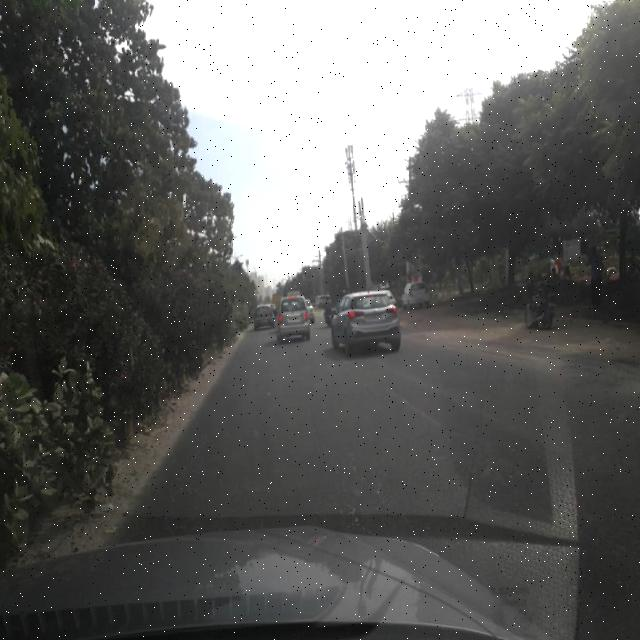D20: (481, 344, 634, 612), (161, 405, 464, 535)
D44: (378, 378, 453, 432)
